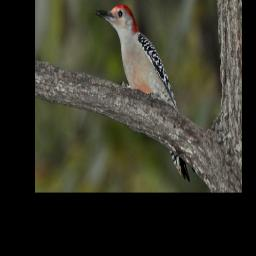Woodpecker: (94, 3, 191, 183)
